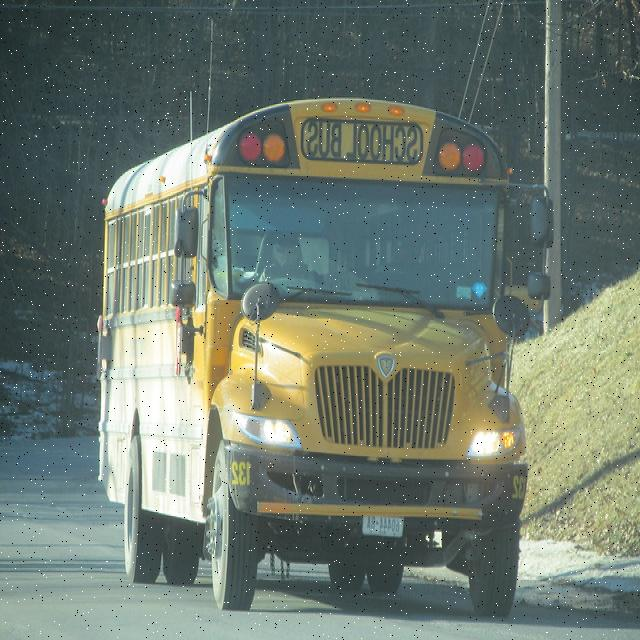Bus: (99, 98, 547, 610)
